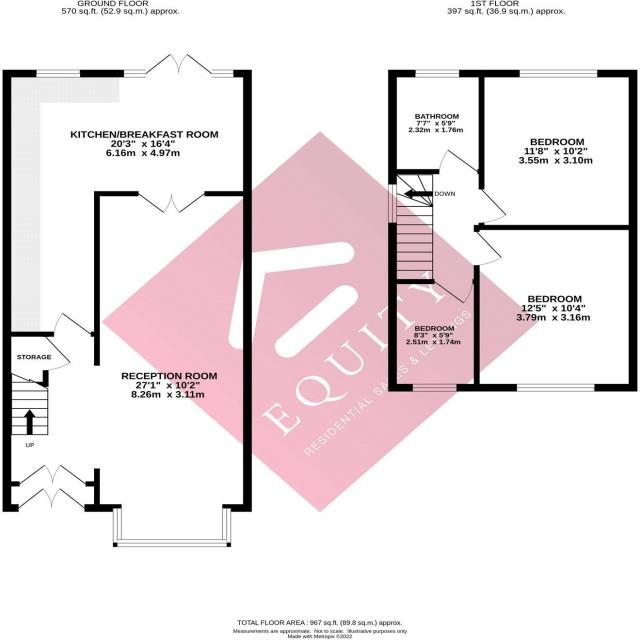DOOR: (473, 230, 504, 266), (432, 279, 474, 305), (437, 149, 479, 174), (479, 188, 508, 224), (52, 312, 92, 337)
DOUBLE DOOR: (144, 52, 213, 78), (137, 190, 207, 215)
ROOM: (2, 53, 252, 337), (93, 189, 252, 546), (473, 225, 638, 392), (479, 69, 638, 231), (388, 279, 480, 392), (388, 69, 485, 175)
WINDOW: (112, 507, 232, 548), (515, 383, 596, 392), (518, 69, 598, 78), (387, 184, 398, 224), (412, 383, 457, 392), (415, 69, 460, 78), (36, 69, 81, 78)
